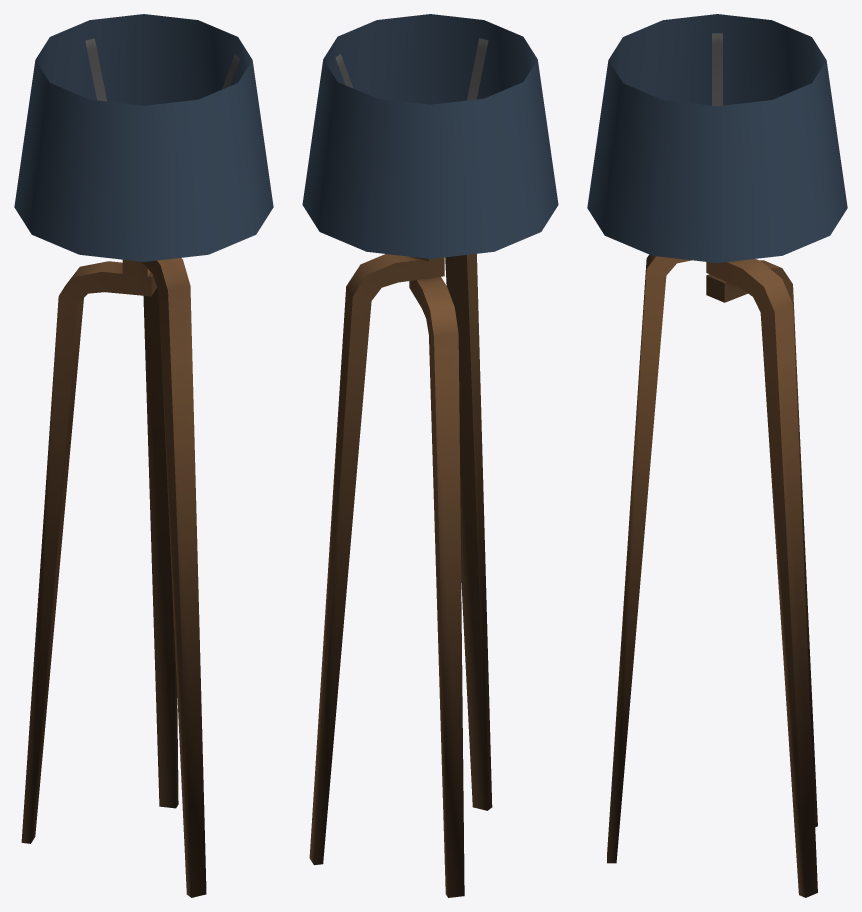
File: floor_lamp.glb
3 renders of one model, left to right at view 1: azimuth 30°, elevation 25°; view 2: azimuth 150°, elevation 25°; view 3: azimuth 270°, elevation 25°, orthographic.
Parts seen in each view (by area): view 1: Object_2; view 2: Object_2; view 3: Object_2.
Boxes of the visible parts, left/top/right/bottom form: Object_2: left=14, top=14, right=273, bottom=897; Object_2: left=302, top=14, right=558, bottom=897; Object_2: left=587, top=14, right=847, bottom=897.
Bounding box in the file's own units: 2 × 6.77 × 2.
Materials: 1 (1 with a texture image).
